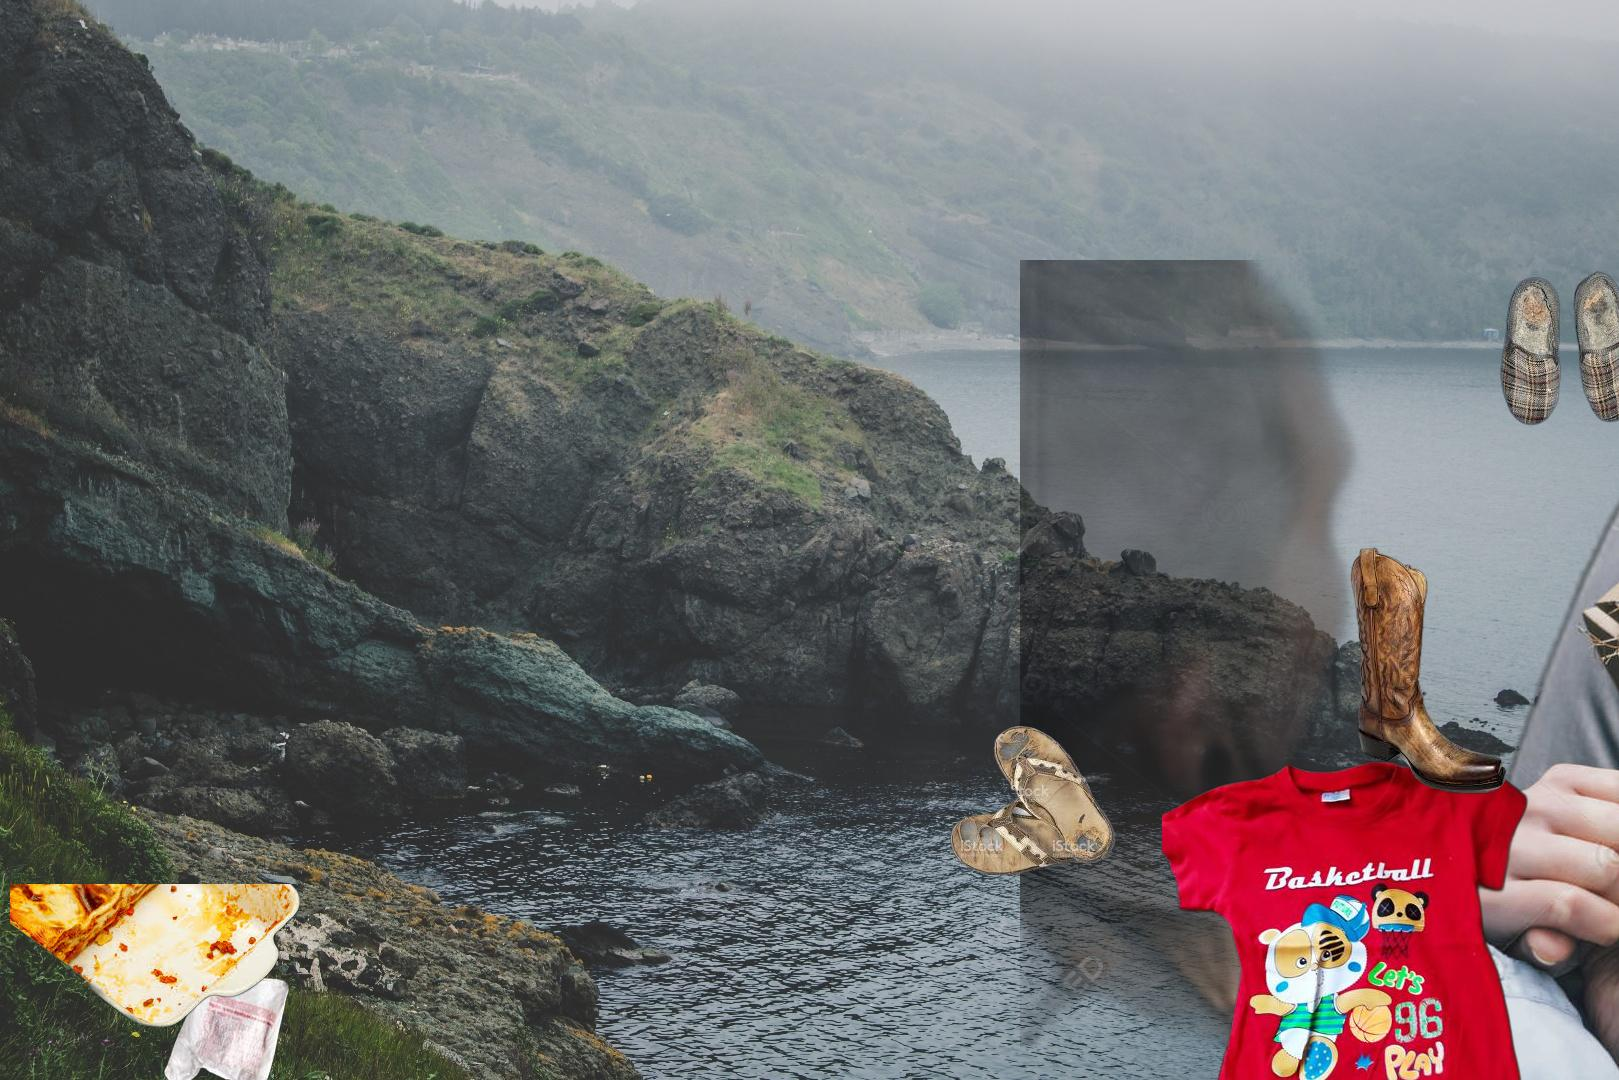biological: (10, 884, 303, 1053)
clothes: (1162, 757, 1531, 1080)
plastic-bag: (162, 952, 291, 1080)
shoes: (1348, 545, 1511, 797), (948, 723, 1118, 877), (1498, 270, 1619, 428)
trashbox-cardboard: (1020, 260, 1619, 1080), (1609, 1037, 1619, 1080)
